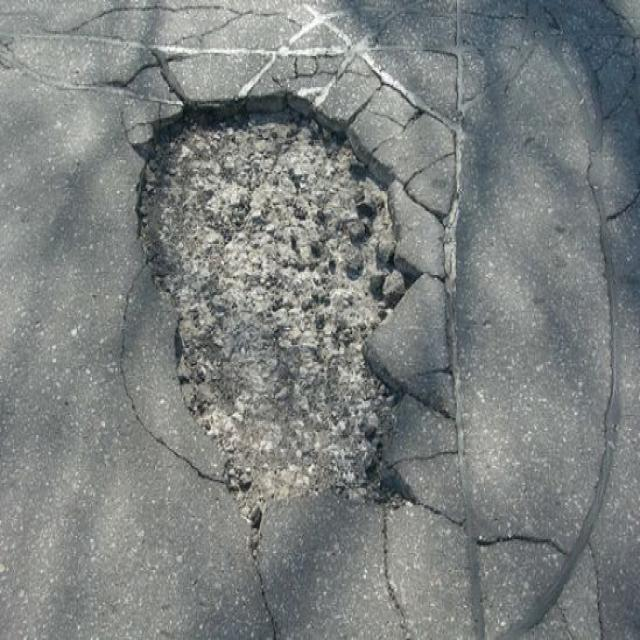pothole: (126, 87, 434, 514)
